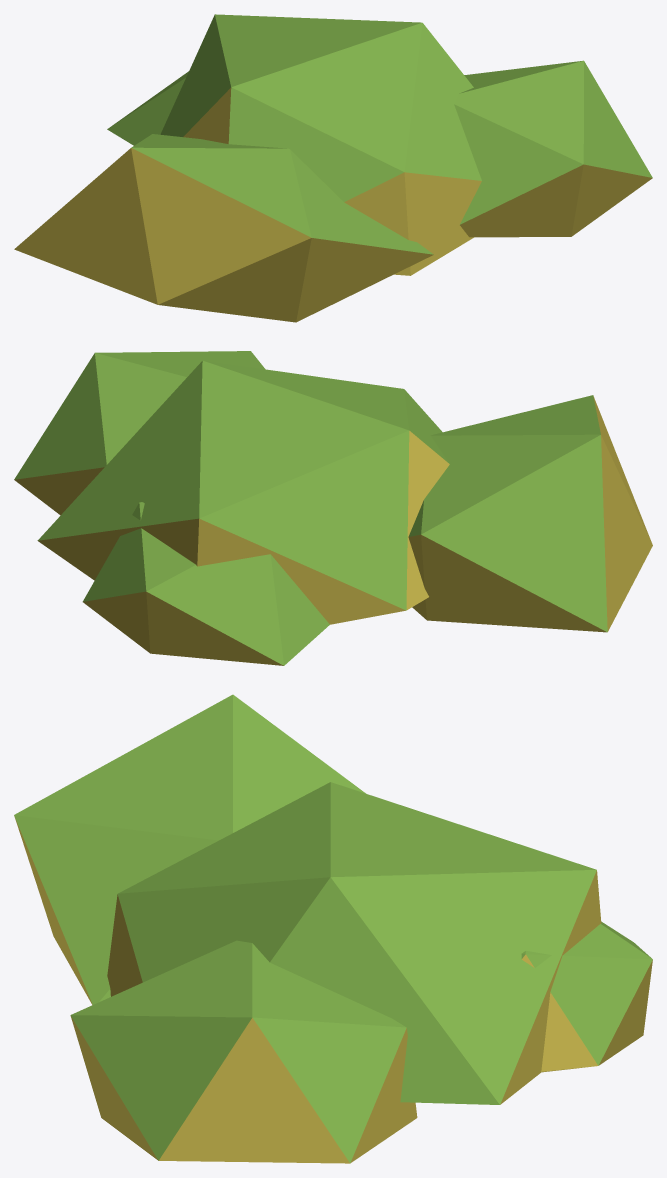
The model's file is CA_Arbusto_Seco.obj.
3 views of the same model, one above another, from view 1: azimuth 30°, elevation 25°; view 2: azimuth 150°, elevation 25°; view 3: azimuth 270°, elevation 25° (orthographic). The views are drawn at different scales.
Visible parts, largest first — view 1: CA_Arbusto_Seco; view 2: CA_Arbusto_Seco; view 3: CA_Arbusto_Seco.
Boxes of the visible parts, x1,y1,x2,y2 form: CA_Arbusto_Seco: [14, 14, 652, 322]; CA_Arbusto_Seco: [14, 351, 652, 665]; CA_Arbusto_Seco: [14, 694, 652, 1163].
Size of the model in its own units: 2.09 by 0.5789 by 1.64.
